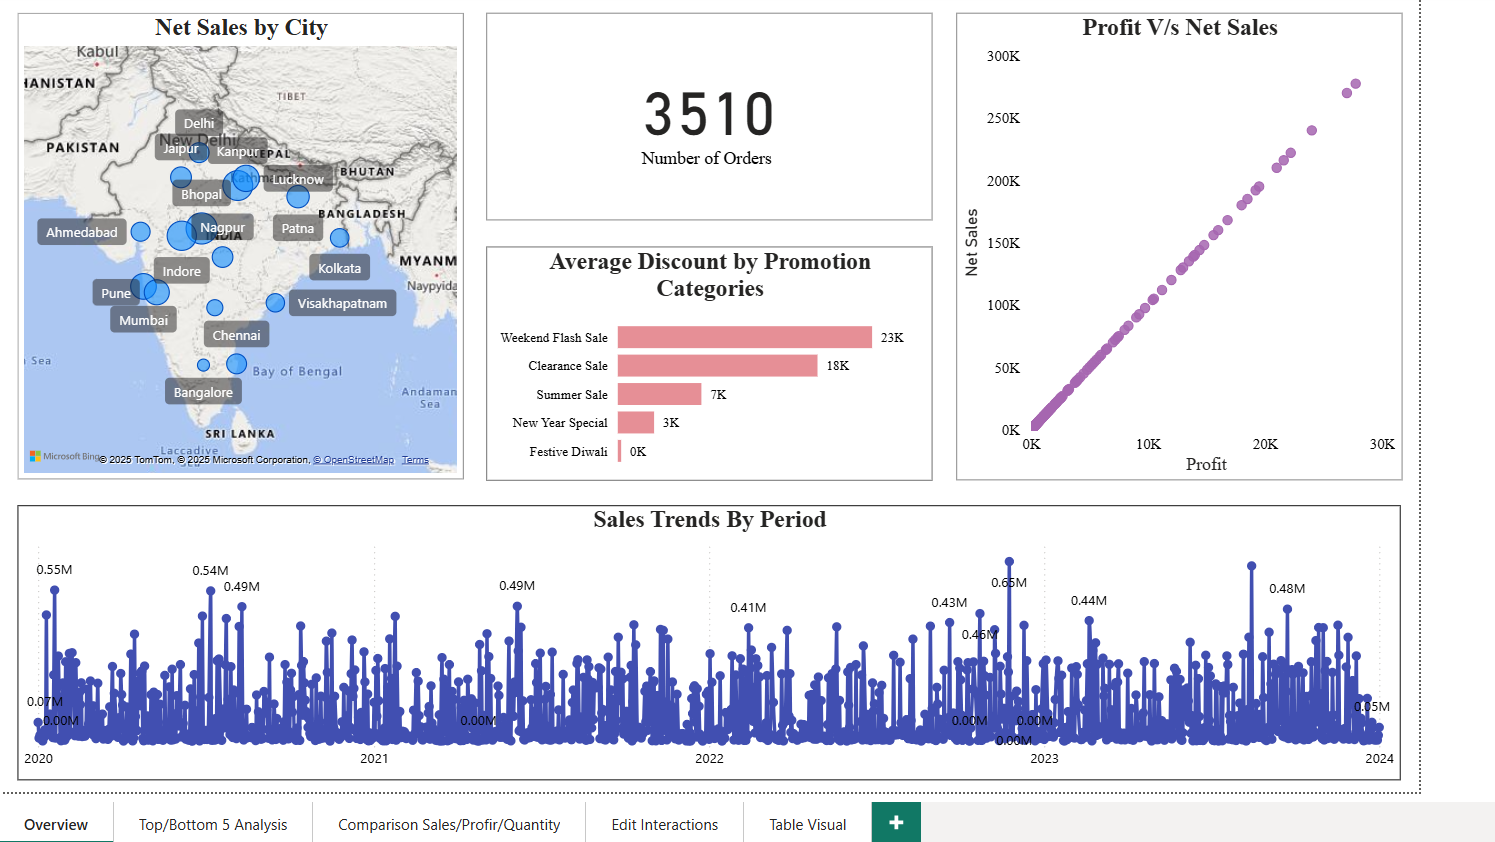

The page's visual inventory and layout, read from the dashboard file:
{"tool":"powerbi","page":{"name":"Overview","canvas":[1280,720],"ordinal":0},"visuals":[{"type":"lineChart","title":"Sales Trends By Period","fields":{"Category":["Fact Table.Date (dd/mm/yyyy).Variation.Date Hierarchy.Year"],"Y":["Sum(Fact Table.Net Sales )"]},"box":[15.9,461,1247.3,248.2],"z":0},{"type":"scatterChart","title":"Profit V/s Net Sales ","fields":{"X":["Fact Table.Profit"],"Y":["Fact Table.Net Sales "]},"box":[862.1,17.1,402.3,421.9],"z":1000},{"type":"barChart","title":"Average Discount by Promotion Categories","fields":{"Y":["Avg(Fact Table.Discount)"],"Category":["Dim Promotion.Promotion Name"]},"box":[439,227.4,402.3,211.6],"z":2000},{"type":"map","fields":{"Category":["Dim Customers.City"],"Size":["Sum(Fact Table.Net Sales )"]},"box":[15.9,17.1,402.3,420.7],"z":3000},{"type":"card","fields":{"Values":["Count(Fact Table.Order ID)"]},"box":[439,17.1,402.3,187.1],"z":4000}]}

Visuals, with their boxes on the page's 1280x720 design canvas (x1, y1, x2, y2). These are canvas units, not pixel positions in the 1495x842 screenshot, which may show the page scaled, cropped or inside an application window:
"Sales Trends By Period" lineChart: rect(16, 461, 1263, 709)
"Profit V/s Net Sales " scatterChart: rect(862, 17, 1264, 439)
"Average Discount by Promotion Categories" barChart: rect(439, 227, 841, 439)
map - Dim Customers.City x Sum(Fact Table.Net Sales ): rect(16, 17, 418, 438)
card - Count(Fact Table.Order ID): rect(439, 17, 841, 204)
